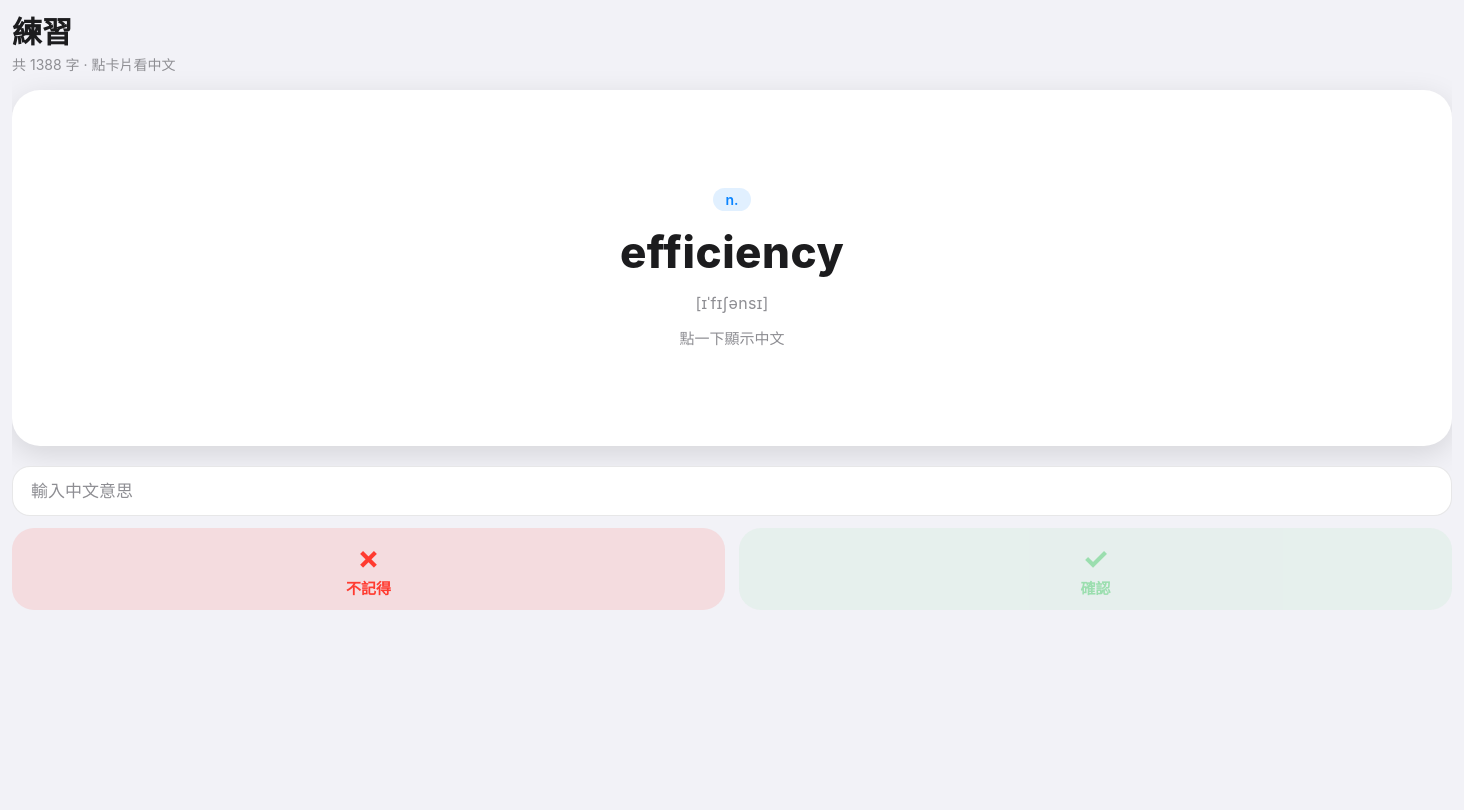
Test case: PracticePage answer input › disables 確認 while the input is empty
Check: the button "✓ 確認" is disabled, box [739,528,1452,610]
Type "意思" into the field labelled "輸入中文意思" at (732, 491), box [12,466,1452,516]
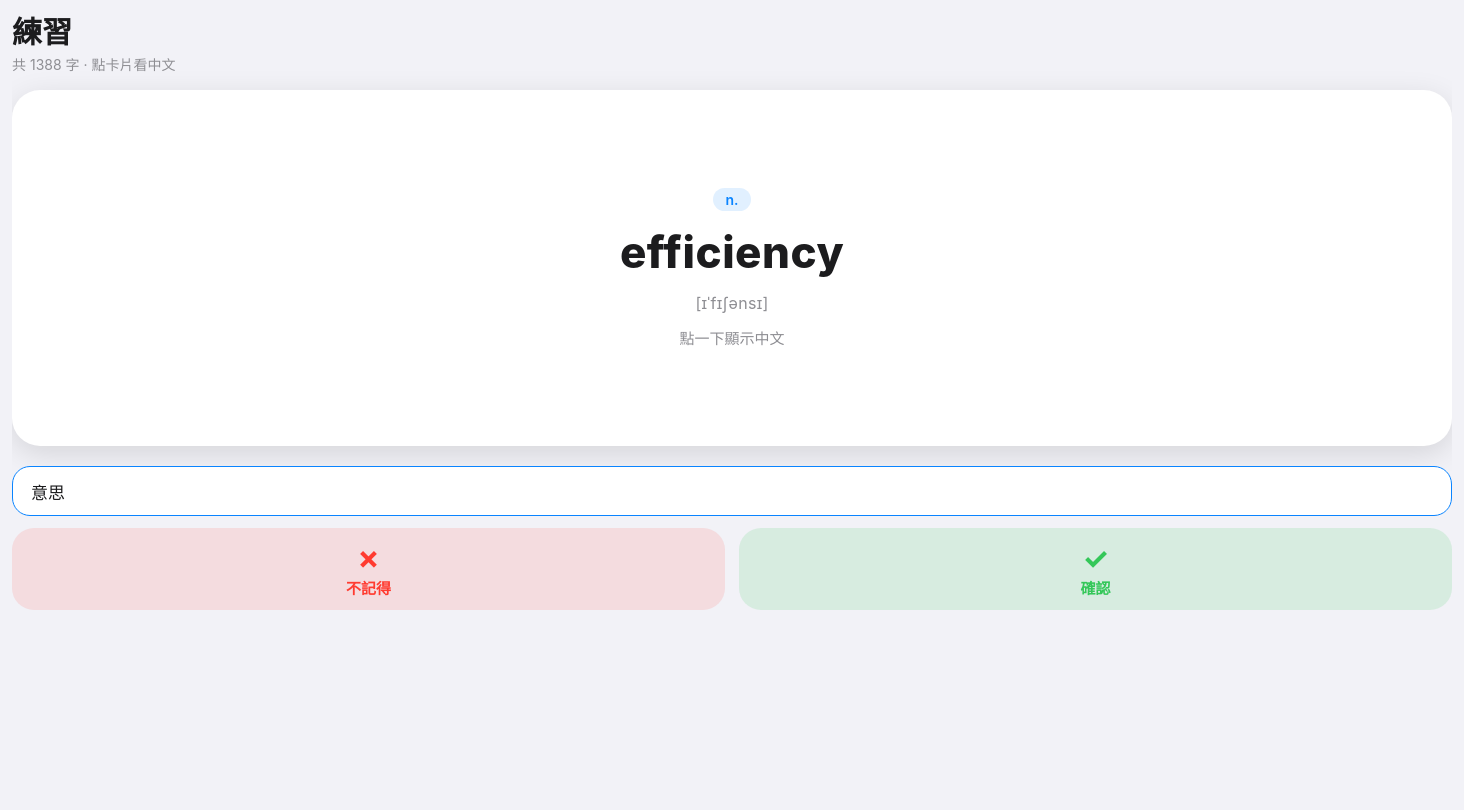
Check: the button "✓ 確認" is enabled, box [739,528,1452,610]
